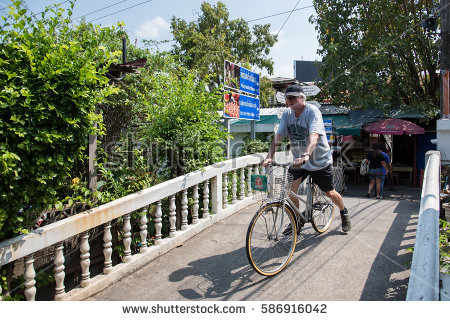bikerider: (241, 77, 354, 282)
